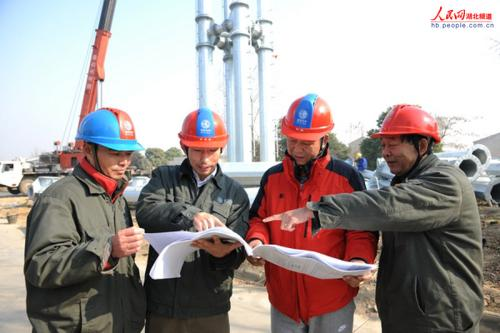hard-hat: (75, 107, 145, 152), (370, 103, 441, 143), (281, 93, 334, 142), (178, 107, 228, 149)
person: (261, 103, 485, 333), (245, 93, 380, 333), (23, 107, 147, 333), (135, 107, 251, 333)
vest: (306, 152, 485, 332), (245, 147, 379, 327), (23, 157, 147, 333), (139, 159, 255, 327)
